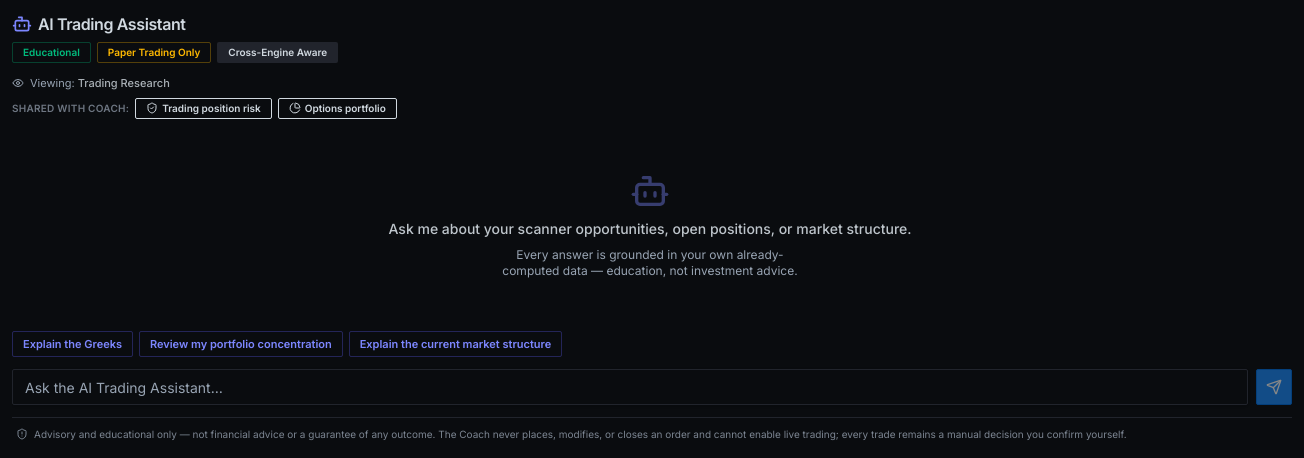
Scenario: TradingCoachWorkspace — streaming, loading, error/retry, and stop › streams partial assistant text into view while a reply is in flight
The image size is (1304, 458).
Type "Review my portfolio" into the field with test id "input-trading-coach-composer" at [630, 387], box x1=12 y1=369 x2=1248 y2=405
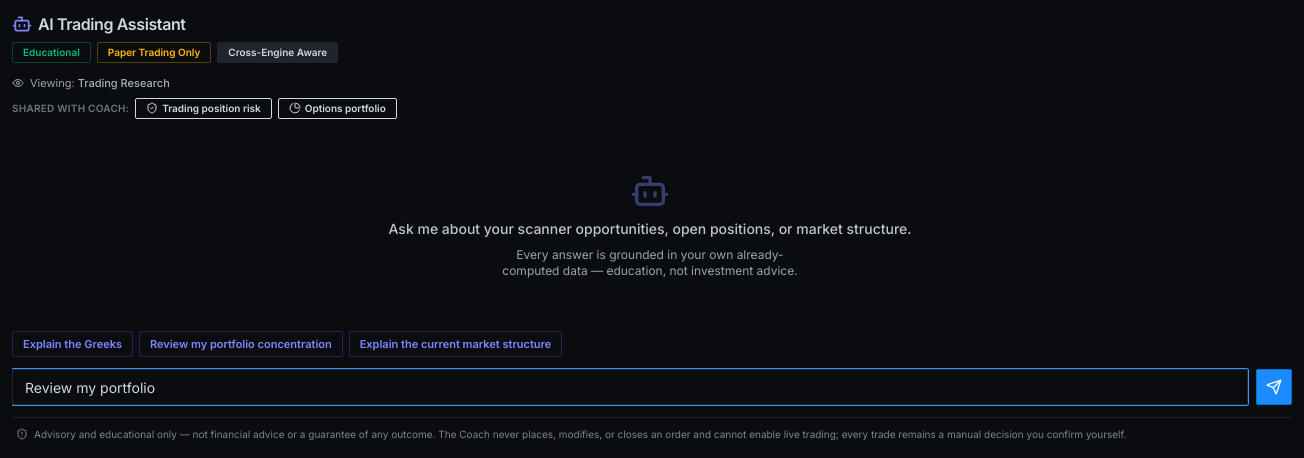
Click the button with test id "button-trading-coach-send" at [1274, 387], box x1=1256 y1=369 x2=1292 y2=405
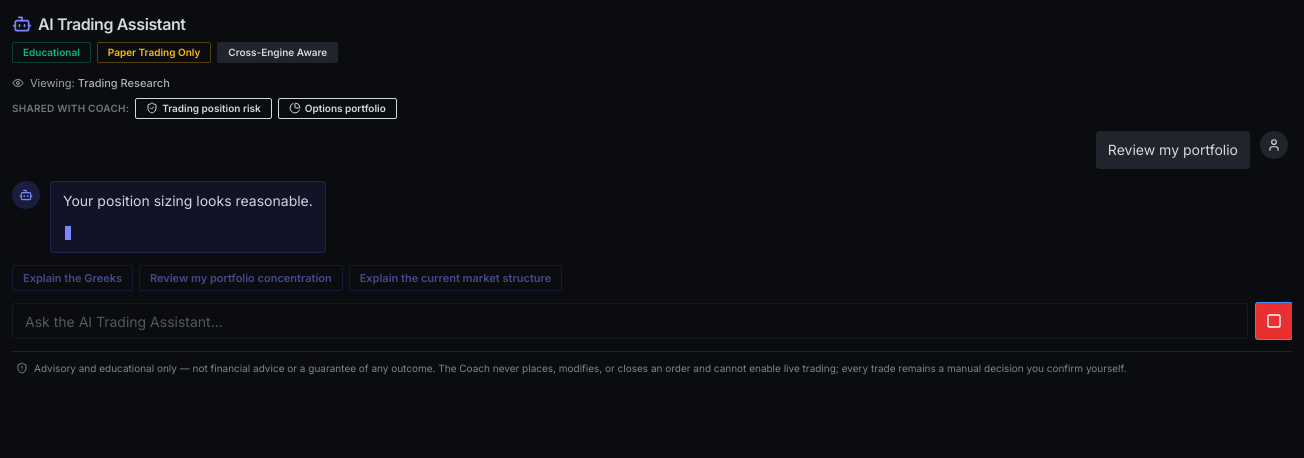
Expected: the text "Your position sizing looks reasonable." is shown, x1=63 y1=190 x2=313 y2=213
Expected: the text "Review my portfolio" is shown, x1=1108 y1=138 x2=1238 y2=161
